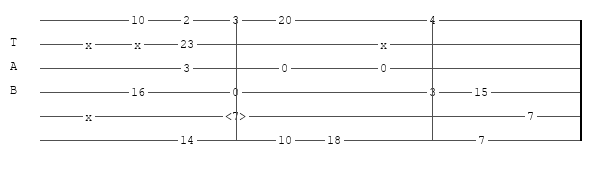0: (232, 86, 243, 98), (281, 62, 292, 74), (380, 62, 391, 74)
10: (131, 14, 149, 26), (278, 134, 296, 146)
14: (180, 134, 198, 146)
15: (474, 86, 492, 98)
16: (131, 86, 149, 98)
18: (327, 134, 345, 146)
2: (183, 14, 194, 26)
20: (278, 14, 296, 26)
23: (180, 38, 198, 50)
3: (183, 62, 194, 74), (232, 14, 243, 26), (429, 86, 440, 98)
4: (429, 14, 440, 26)
7: (478, 134, 489, 146), (527, 110, 538, 122)
harmonic: (225, 110, 250, 123)
x: (85, 39, 96, 49), (85, 111, 96, 121), (134, 39, 145, 49), (380, 39, 391, 49)
